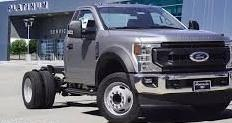Trucks: (22, 6, 232, 122)
